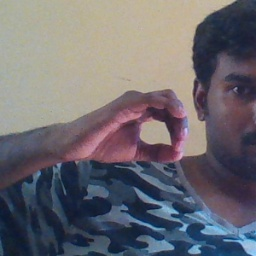O: (64, 83, 192, 169)
